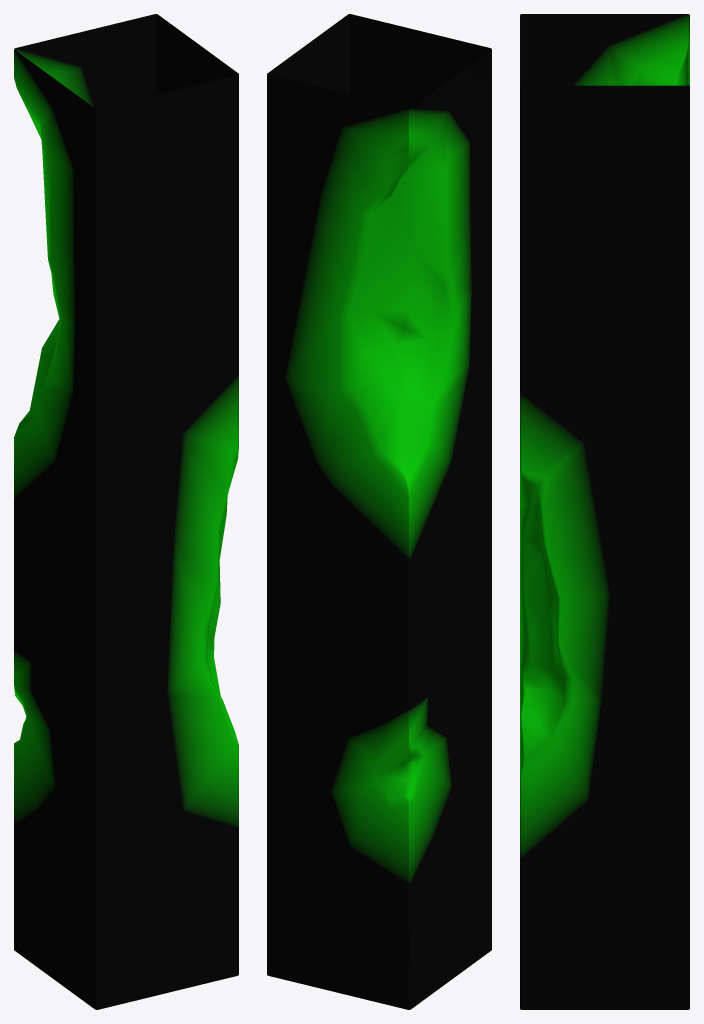
Rendered from pillar_Break_01.fbx.
The picture shows the model from 3 angles, left to right: view 1: azimuth 30°, elevation 25°; view 2: azimuth 150°, elevation 25°; view 3: azimuth 270°, elevation 25°; orthographic projection. The views are drawn at different scales.
Visible parts, largest first — view 1: pillar_Break_01; view 2: pillar_Break_01; view 3: pillar_Break_01.
Boxes of the visible parts, <box> form: pillar_Break_01: <box>14,14,238,1009</box>; pillar_Break_01: <box>267,14,491,1009</box>; pillar_Break_01: <box>520,14,689,1009</box>.
Bounding box in the file's own units: 50 × 300 × 50.
